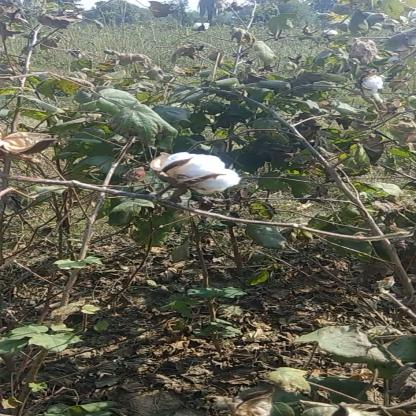cotton_ready: (131, 147, 249, 215)
